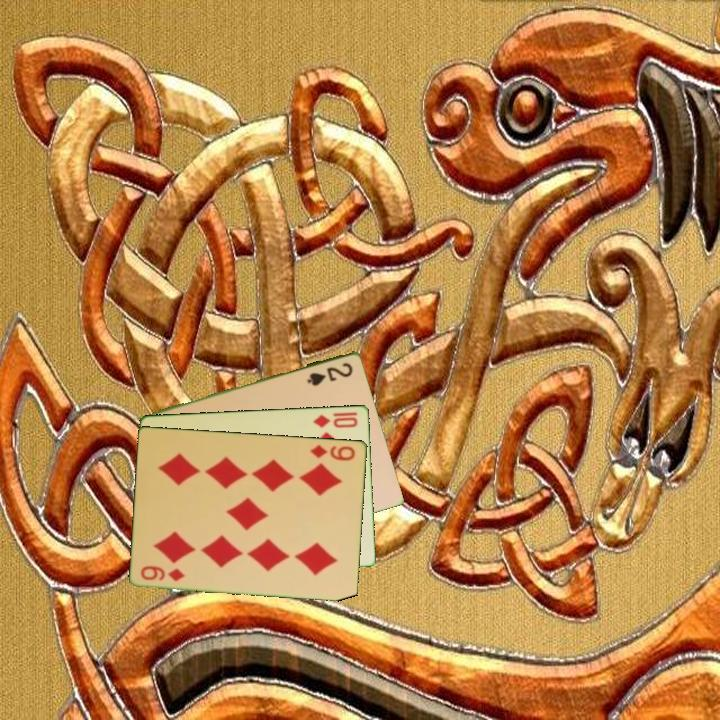10d: (310, 411, 361, 430)
2s: (304, 359, 356, 389)
9d: (306, 441, 358, 463), (138, 562, 188, 584)
